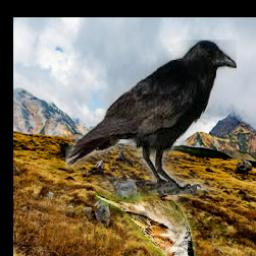Crow: (65, 41, 237, 196)
Sparrow: (96, 186, 200, 256)
